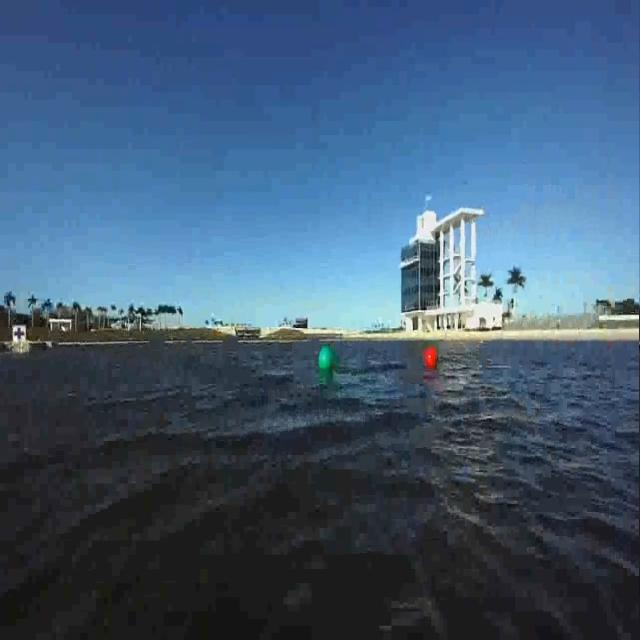green-buoy: (320, 346, 338, 373)
red-buoy: (424, 345, 438, 370)
